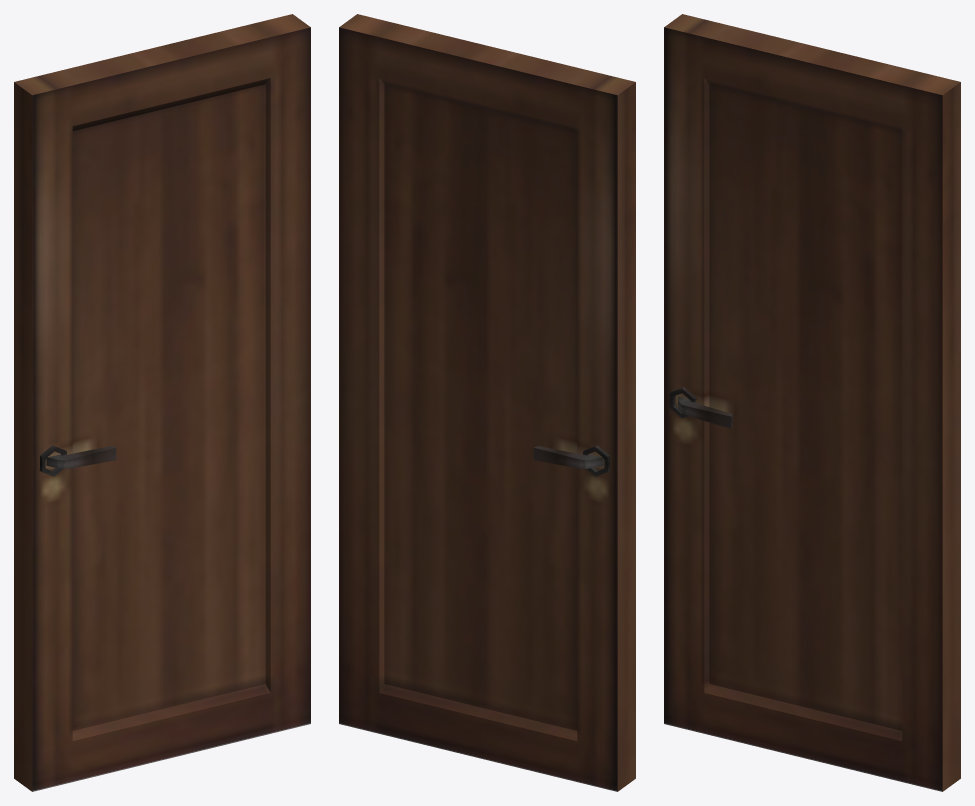
The model's file is wooden_door_1.glb.
The picture shows the model from 3 angles, left to right: view 1: azimuth 30°, elevation 25°; view 2: azimuth 150°, elevation 25°; view 3: azimuth 330°, elevation 25°; orthographic projection.
Visible parts, largest first — view 1: Wooden Door_001.001, Door Handle.021; view 2: Wooden Door_001.001, Door Handle.021; view 3: Wooden Door_001.001, Door Handle.021.
Boxes of the visible parts, x1,y1,x2,y2 form: Wooden Door_001.001: (14, 14, 310, 791); Door Handle.021: (39, 445, 116, 476); Wooden Door_001.001: (339, 14, 635, 791); Door Handle.021: (533, 445, 610, 476); Wooden Door_001.001: (664, 14, 960, 791); Door Handle.021: (669, 387, 732, 428).
Size of the model in its own units: 0.7558 by 1.81 by 0.1641.
1 material, 1 textured.
